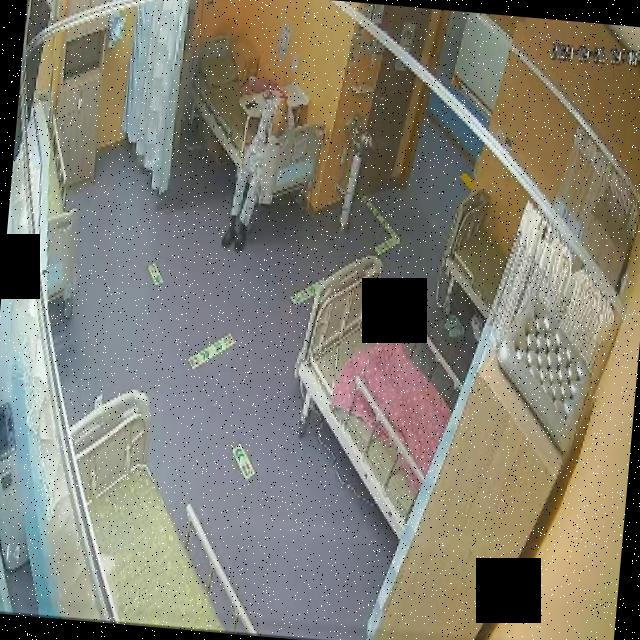bed: (52, 382, 276, 636), (286, 252, 463, 537), (180, 34, 330, 208), (438, 188, 514, 322)
patient: (218, 90, 296, 256)
sit: (218, 90, 296, 255)
